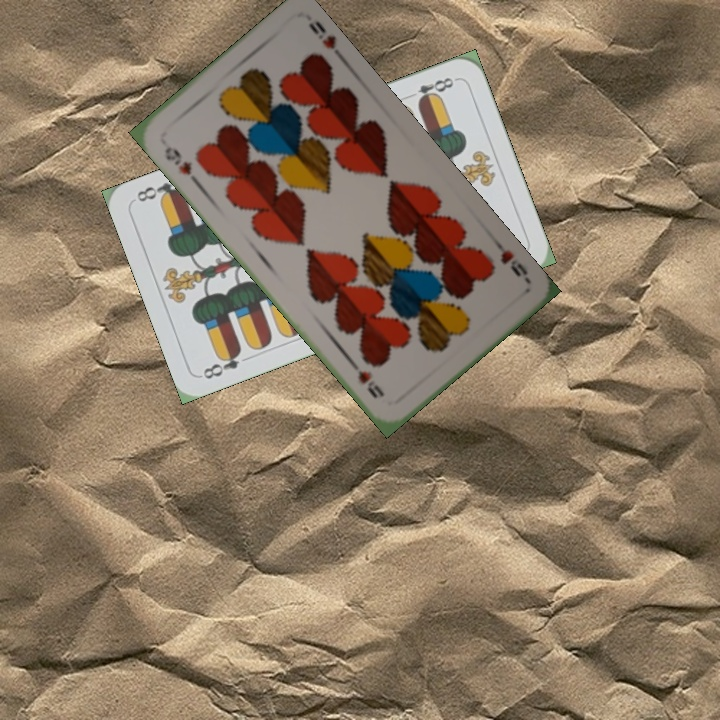E8: (402, 73, 459, 107), (199, 344, 244, 382)
H9: (489, 235, 533, 285), (160, 142, 196, 178)
